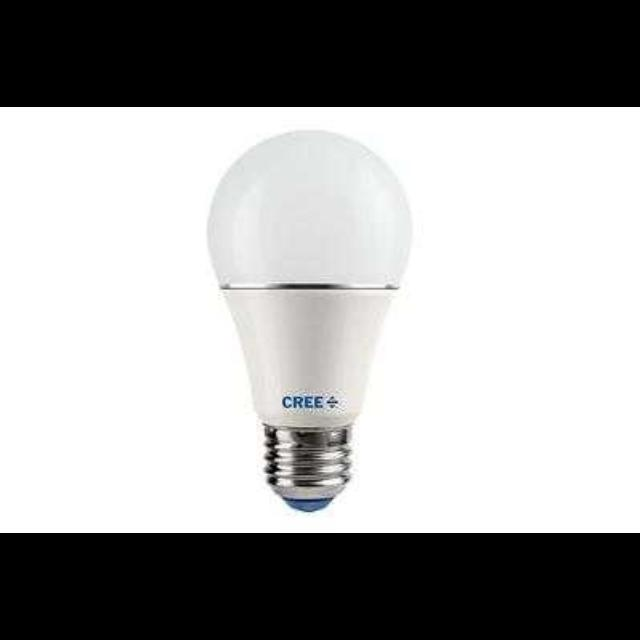light_bulb: (208, 124, 412, 512)
